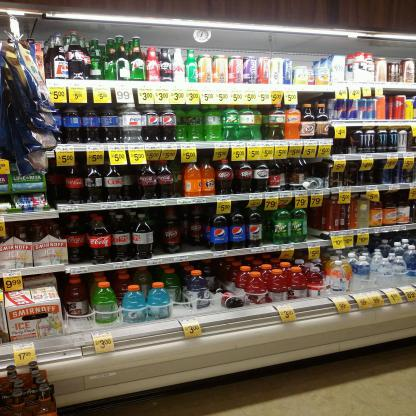Void: (156, 215, 206, 249), (312, 209, 328, 238), (336, 136, 350, 153)
